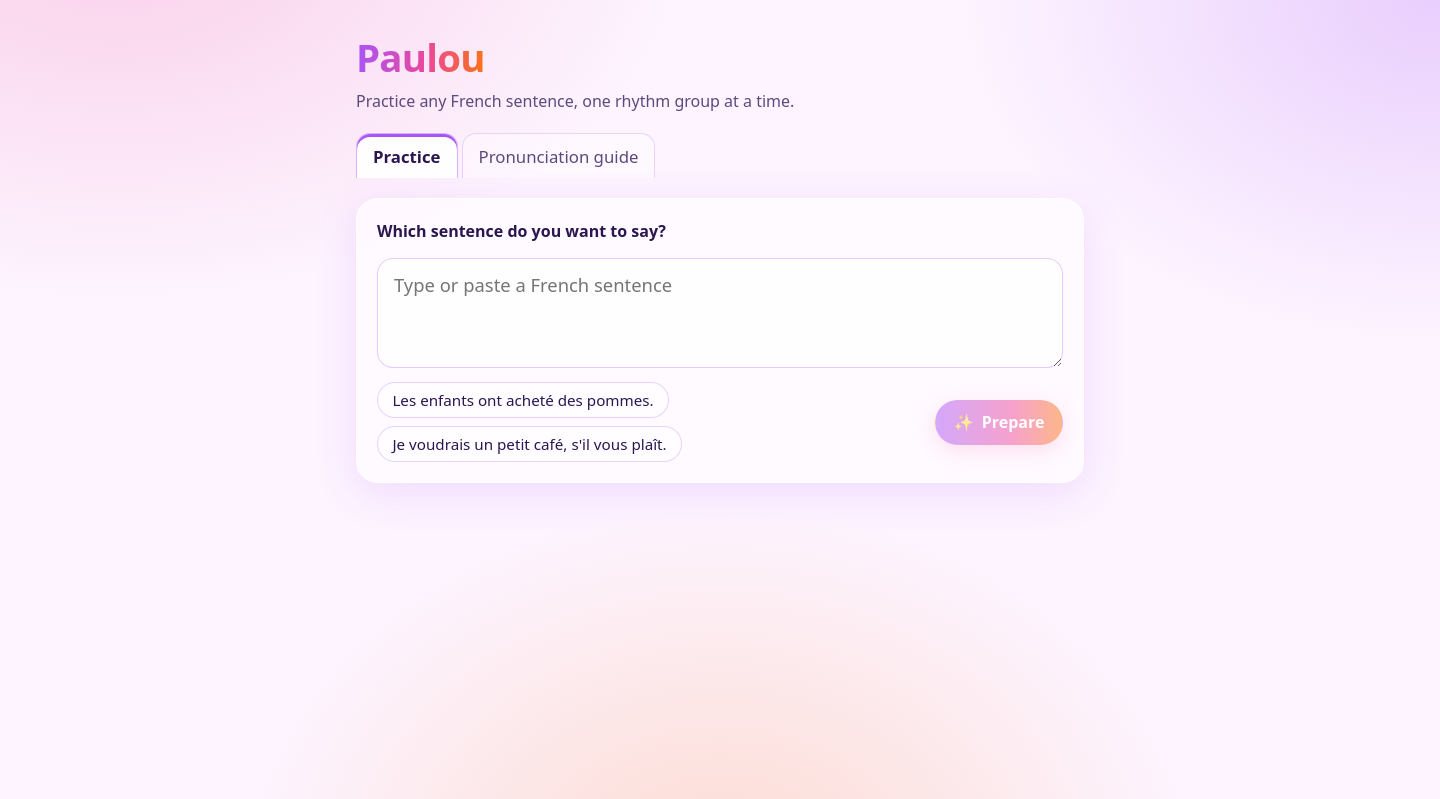
Test: App › the guide is available from the start page
The width and height of the screenshot is (1440, 799).
Click the tab "Pronunciation guide".
click(558, 156)  # box [462,133,655,179]
(page scrolled)
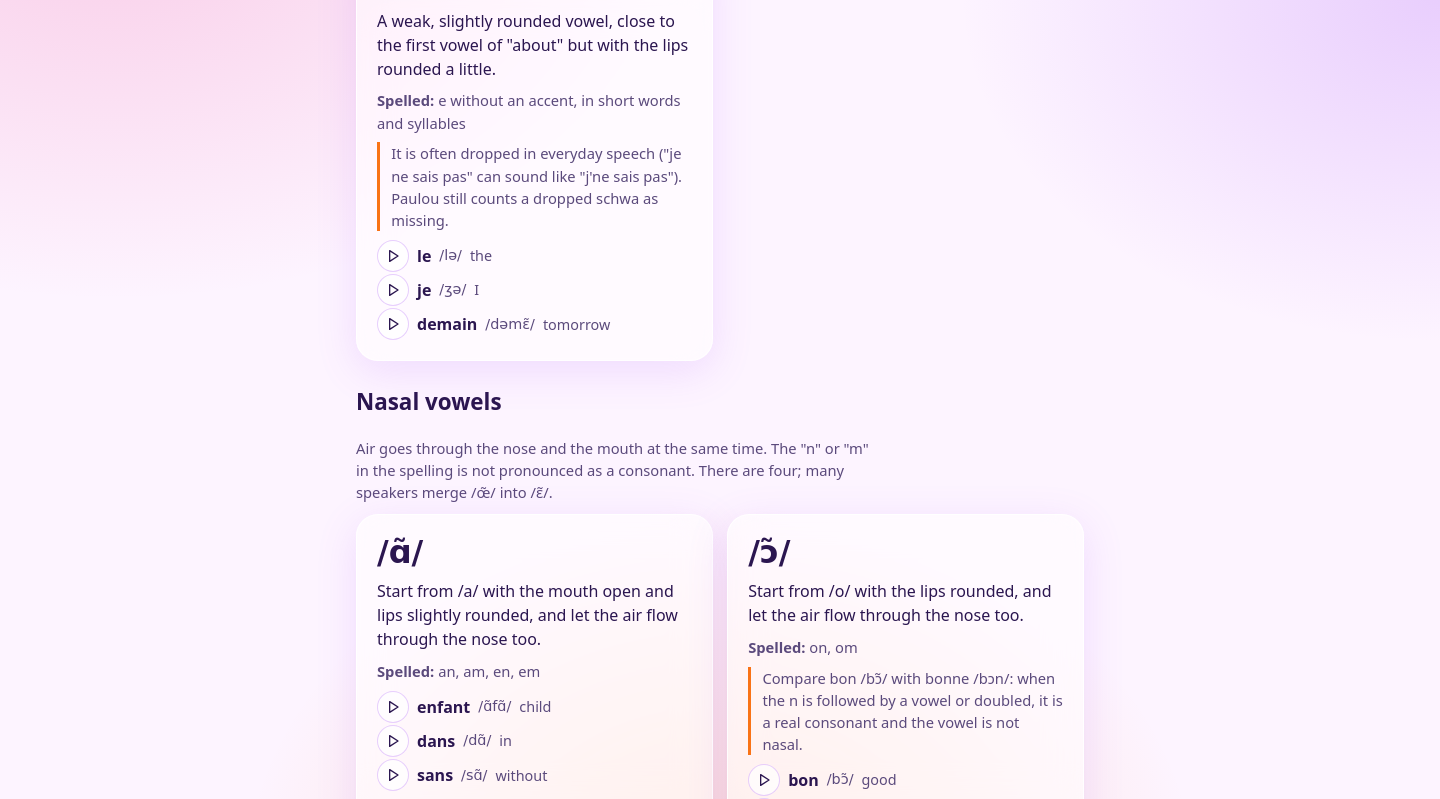
Expected: the heading "Nasal vowels" is shown, [356,386,502,417]
Expected: the label labelled "Which sentence" is gone
